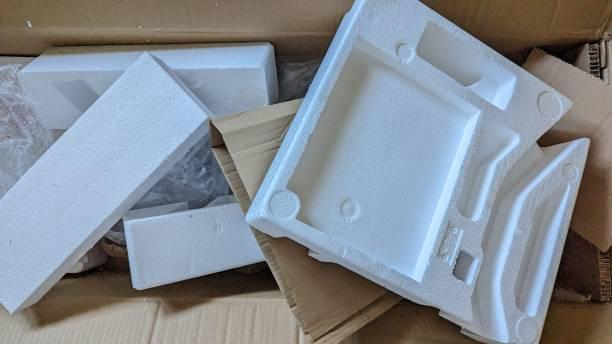PS: (244, 0, 592, 344), (0, 47, 217, 315), (15, 37, 285, 133), (123, 194, 267, 290)
